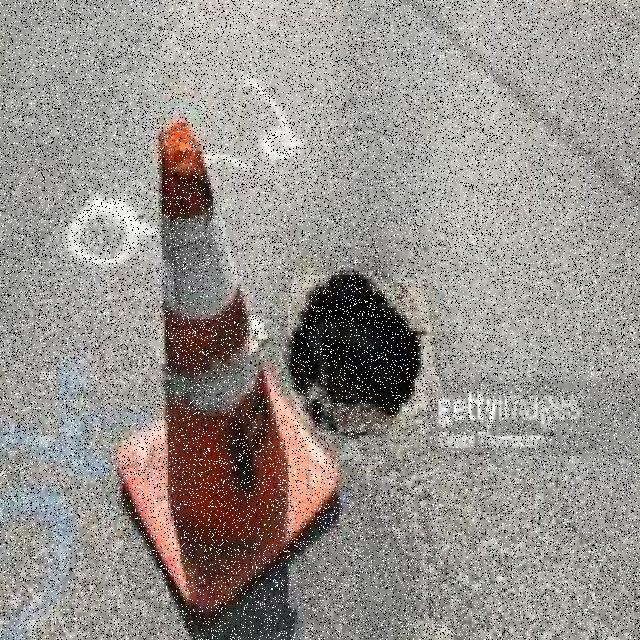pothole: (285, 271, 430, 436)
